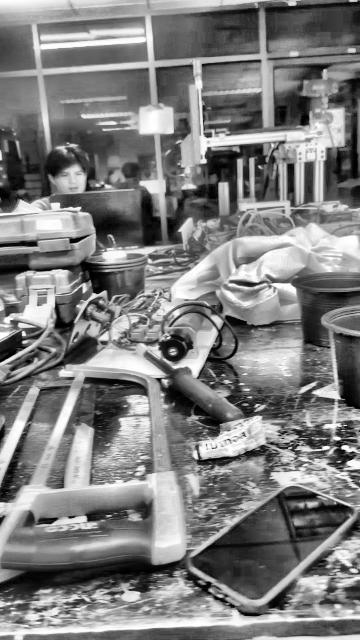pot: (293, 272, 359, 346), (320, 306, 360, 407)
